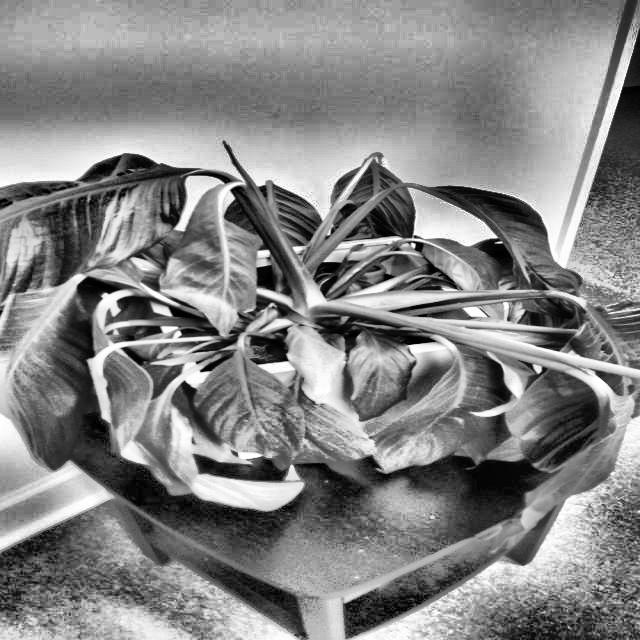plants: (76, 156, 640, 580)
